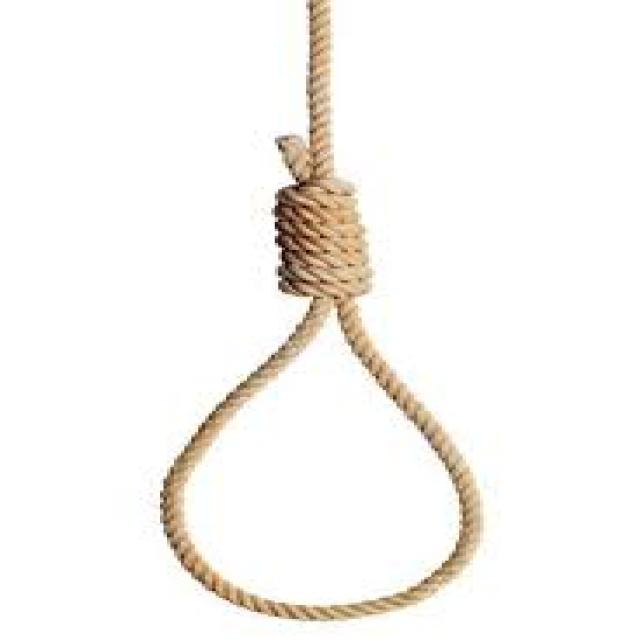Rope: (139, 0, 500, 640)
